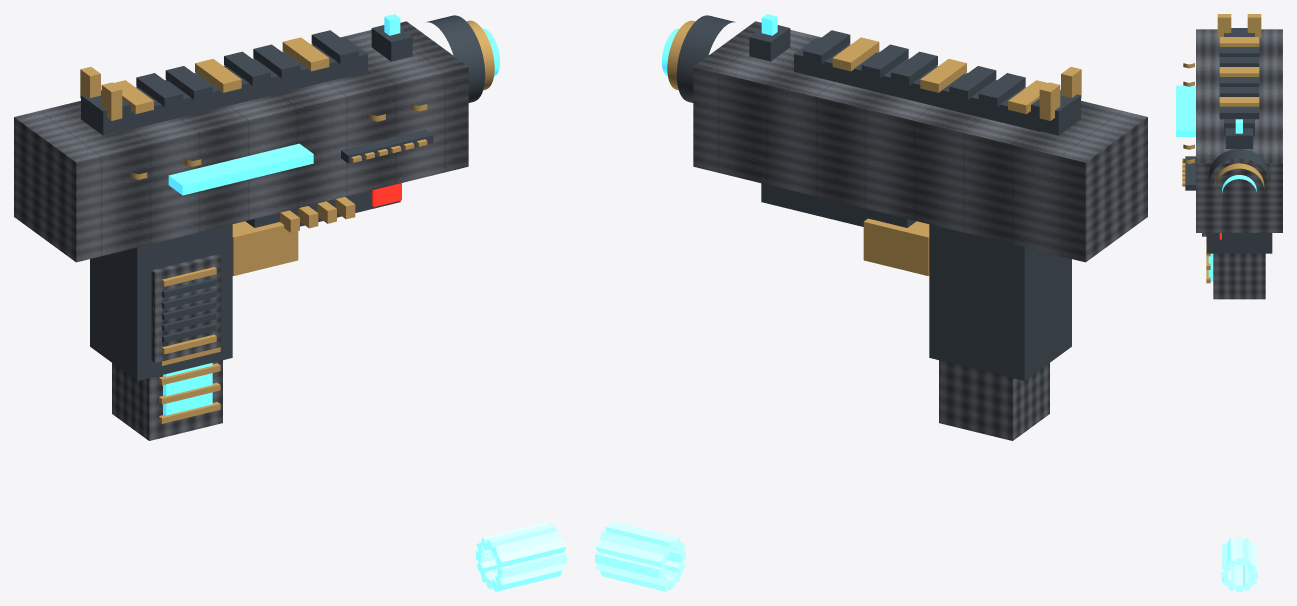
Rendered from asterion_fx9.glb.
3 renders of one model, left to right at view 1: azimuth 30°, elevation 25°; view 2: azimuth 150°, elevation 25°; view 3: azimuth 270°, elevation 25°, orthographic. The views are drawn at different scales.
Visible parts, largest first — view 1: Upper receiver armored shell, Angled ergonomic grip, Top rail, Magazine core, Grip textured inset, Side luminous blue panel, Trigger guard, Muzzle ring detail, Magazine glowing cell window, Rear sight base, Side vent inset, Front sight base (+13 smaller); view 2: Upper receiver armored shell, Angled ergonomic grip, Magazine core, Top rail, Trigger guard, Underbarrel laser housing, Muzzle ring detail, Rear sight base, Front sight base, Rail tooth 2, Rail tooth 6, Rail tooth 3 (+9 smaller); view 3: Upper receiver armored shell, Magazine core, Muzzle ring detail (×3), Angled ergonomic grip, Side luminous blue panel, Front sight base, Rail tooth 8, Rail tooth 1, Rail tooth 2, Rail tooth 3, Rail tooth 4, Rail tooth 5 (+14 smaller).
Boxes of the visible parts, bbox=[...] form: Upper receiver armored shell: bbox=[14, 21, 468, 262]; Angled ergonomic grip: bbox=[90, 224, 232, 380]; Top rail: bbox=[121, 38, 367, 131]; Magazine core: bbox=[112, 360, 222, 440]; Grip textured inset: bbox=[151, 254, 221, 362]; Side luminous blue panel: bbox=[168, 143, 313, 195]; Trigger guard: bbox=[232, 221, 298, 275]; Muzzle ring detail: bbox=[426, 15, 485, 102]; Magazine glowing cell window: bbox=[163, 363, 212, 415]; Rear sight base: bbox=[81, 90, 130, 135]; Side vent inset: bbox=[341, 129, 433, 163]; Front sight base: bbox=[371, 25, 412, 61]; Upper receiver armored shell: bbox=[693, 21, 1147, 262]; Angled ergonomic grip: bbox=[929, 224, 1071, 380]; Magazine core: bbox=[939, 360, 1049, 440]; Top rail: bbox=[794, 38, 1040, 131]; Trigger guard: bbox=[863, 218, 929, 275]; Underbarrel laser housing: bbox=[761, 183, 916, 227]; Muzzle ring detail: bbox=[676, 15, 735, 102]; Rear sight base: bbox=[1031, 90, 1080, 135]; Front sight base: bbox=[749, 25, 790, 61]; Rail tooth 2: bbox=[978, 73, 1025, 106]; Rail tooth 6: bbox=[861, 44, 908, 78]; Rail tooth 3: bbox=[949, 66, 996, 99]; Upper receiver armored shell: bbox=[1196, 29, 1282, 232]; Magazine core: bbox=[1213, 253, 1265, 299]; Muzzle ring detail (×3): bbox=[1208, 149, 1270, 192]; Angled ergonomic grip: bbox=[1206, 233, 1272, 253]; Side luminous blue panel: bbox=[1176, 85, 1195, 136]; Front sight base: bbox=[1225, 128, 1252, 148]; Rail tooth 8: bbox=[1219, 106, 1259, 119]; Rail tooth 1: bbox=[1219, 37, 1259, 46]; Rail tooth 2: bbox=[1219, 47, 1259, 56]; Rail tooth 3: bbox=[1219, 57, 1259, 66]; Rail tooth 4: bbox=[1219, 67, 1259, 76]; Rail tooth 5: bbox=[1219, 77, 1259, 86].
Size of the model in its own units: 3.3 by 3.75 by 0.86.
6 materials, 1 textured.
